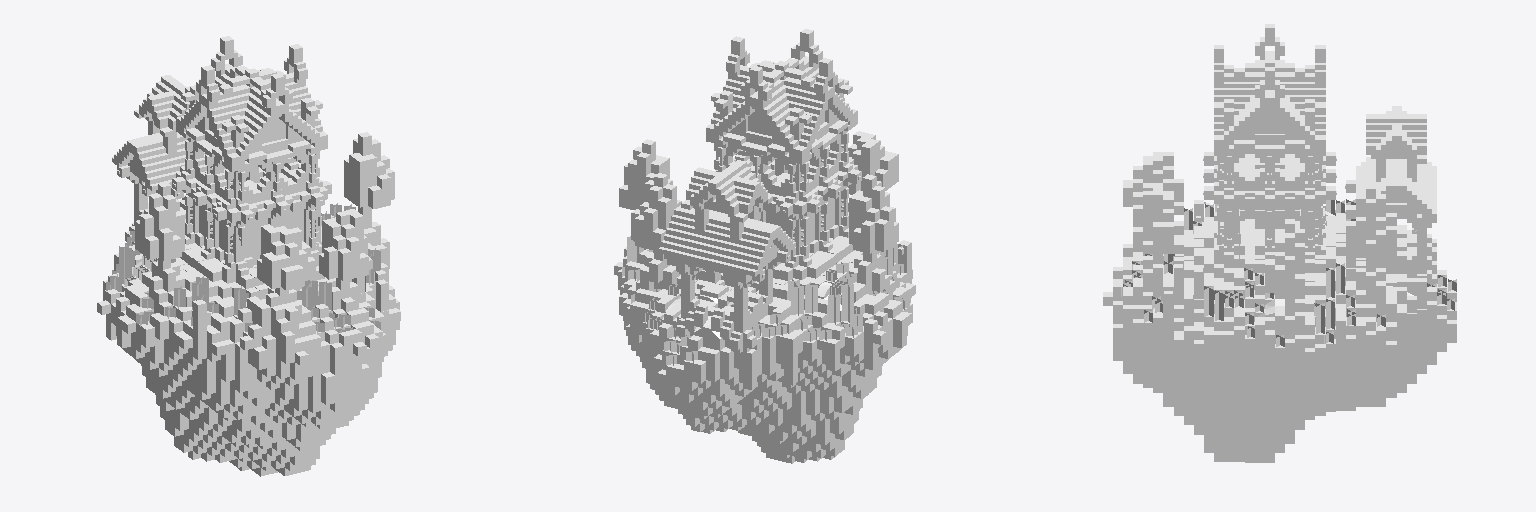
The model's file is Mineways2Skfb.obj.
The picture shows the model from 3 angles: view 1: azimuth 30°, elevation 25°; view 2: azimuth 150°, elevation 25°; view 3: azimuth 270°, elevation 25°; orthographic projection.
Parts seen in each view (by area): view 1: float-island.schematic__-33_0_-40_to_81_255_78; view 2: float-island.schematic__-33_0_-40_to_81_255_78; view 3: float-island.schematic__-33_0_-40_to_81_255_78.
Part boxes in pixels (x1,y1,x2,y2): float-island.schematic__-33_0_-40_to_81_255_78: (97, 36, 400, 476); float-island.schematic__-33_0_-40_to_81_255_78: (614, 29, 915, 463); float-island.schematic__-33_0_-40_to_81_255_78: (1103, 24, 1456, 462).
Bounding box in the file's own units: 0.6739 × 0.9674 × 0.7609.